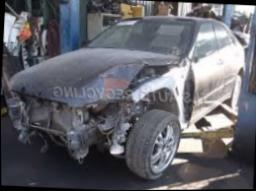Bonnet: (5, 46, 184, 109)
Bumper: (2, 92, 137, 153)
Fender: (132, 78, 179, 112)
Light: (86, 97, 122, 121)
